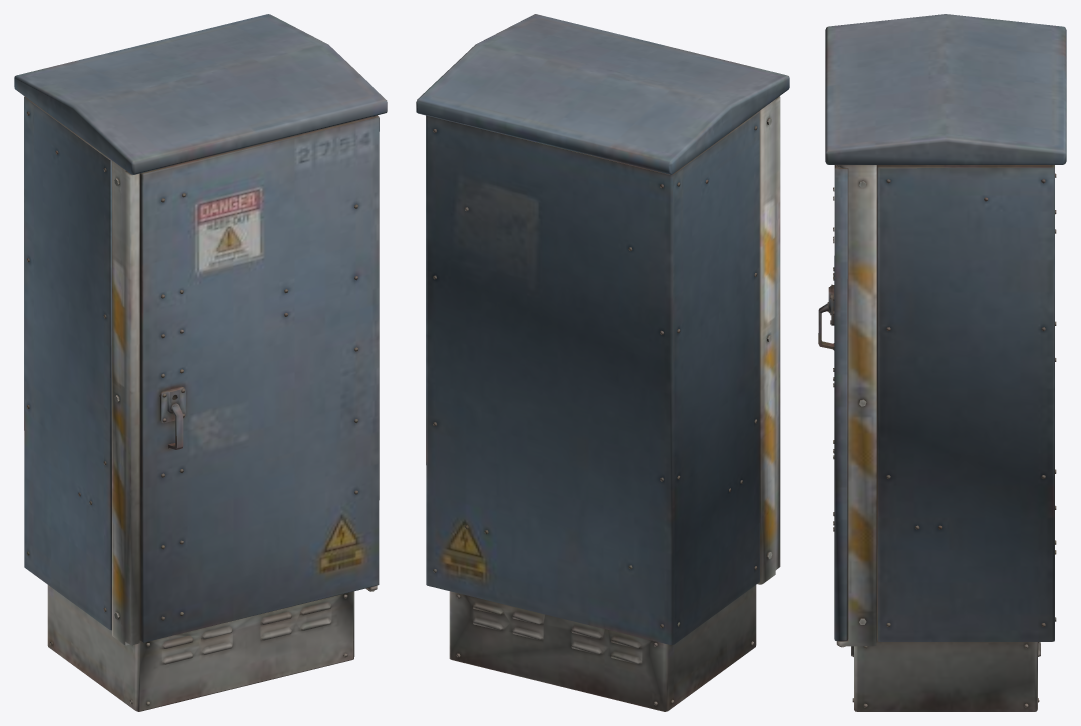
Rendered from ph_utility_box_01.glb.
3 renders of one model, left to right at view 1: azimuth 30°, elevation 25°; view 2: azimuth 150°, elevation 25°; view 3: azimuth 270°, elevation 25°, orthographic.
Visible parts, largest first — view 1: utility_box_01_box_low; view 2: utility_box_01_box_low; view 3: utility_box_01_box_low.
Boxes of the visible parts, box(x1,y1,x2,y2) form: utility_box_01_box_low: box(14, 14, 387, 711); utility_box_01_box_low: box(416, 14, 789, 711); utility_box_01_box_low: box(818, 14, 1066, 711).
Bounding box in the file's own units: 0.52 × 1.12 × 0.432.
1 material, 1 textured.
